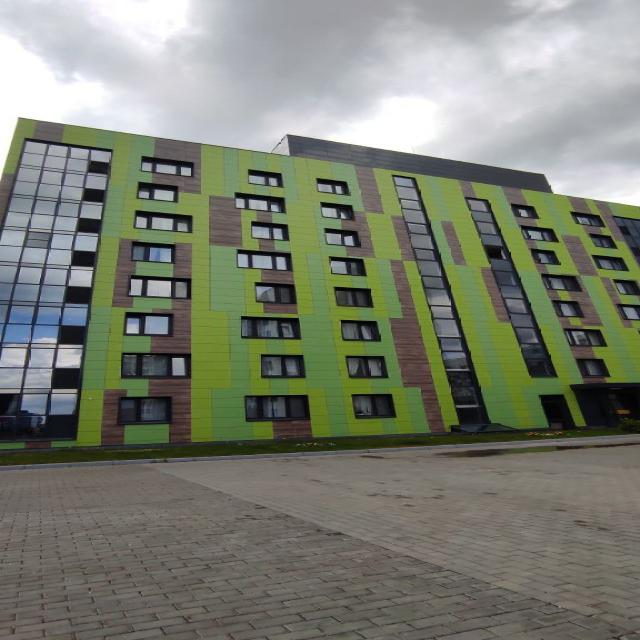Building: (0, 118, 640, 453)
